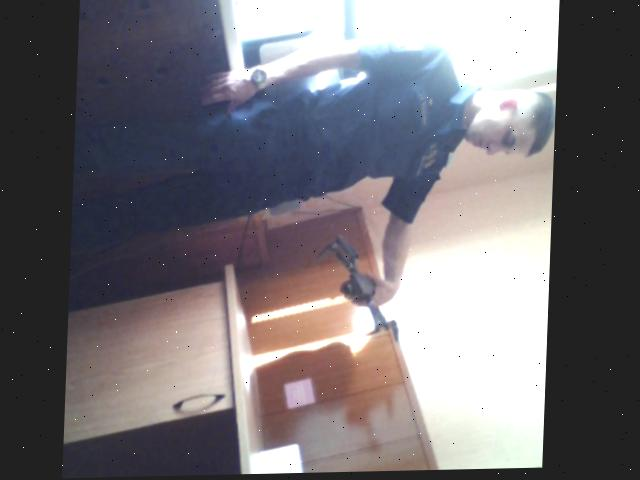drone: (316, 231, 428, 355)
